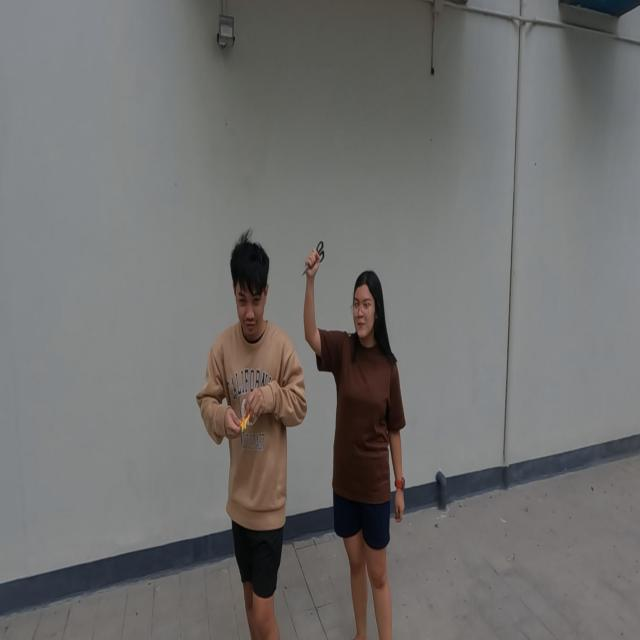scissor: (301, 242, 324, 278), (239, 414, 251, 449)
